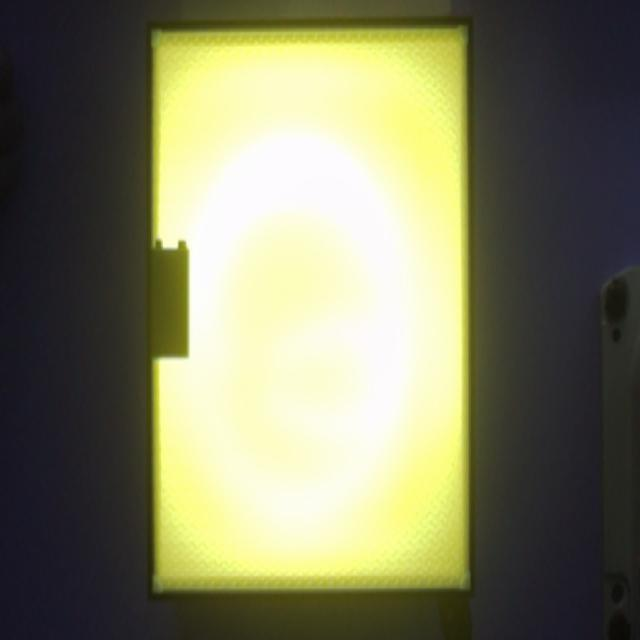bateria: (150, 240, 190, 361)
mesa: (146, 16, 475, 599)
